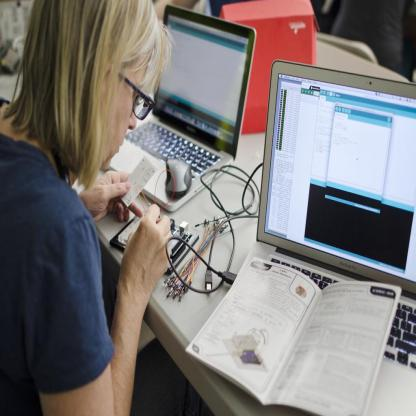board: (231, 59, 416, 415), (108, 5, 257, 213)
